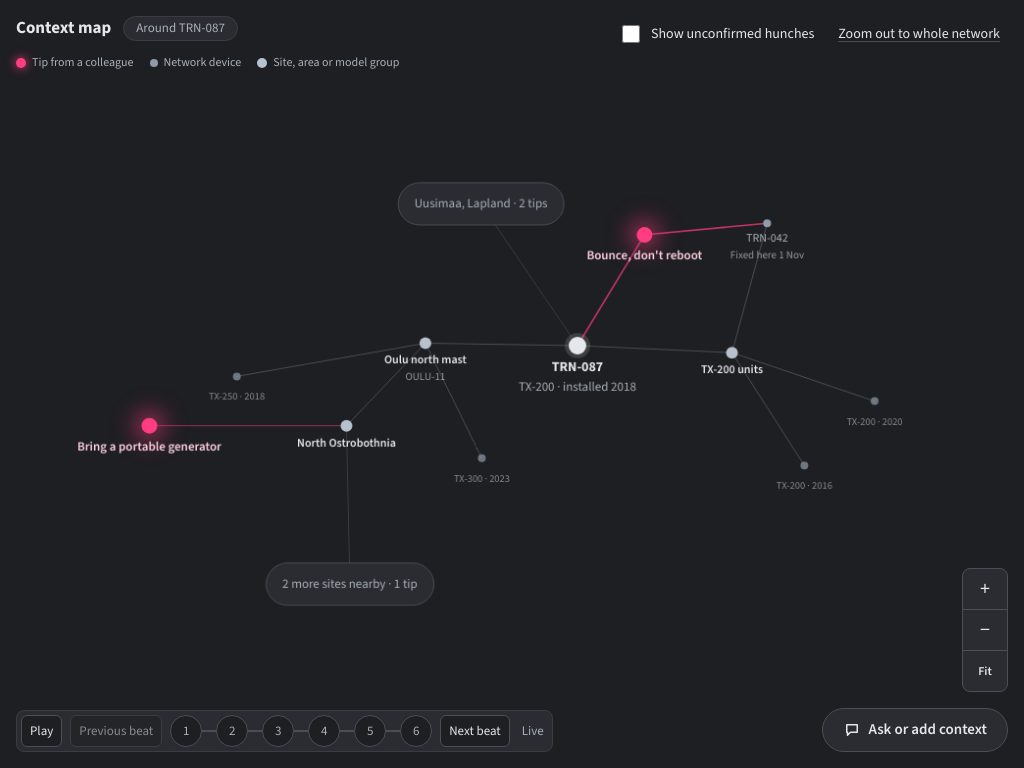
Test case: map page and chat › the hunch toggle shows CA-0005
Expected: the button "Bounce, don't reboot" is shown, [623, 213, 666, 256]
Expected: the button "Upgrade firmware to 5.0" is not shown
Click the checkbox labelled "Show unconfirmed hunches" at coordinates (631, 34), box [622, 25, 640, 43]
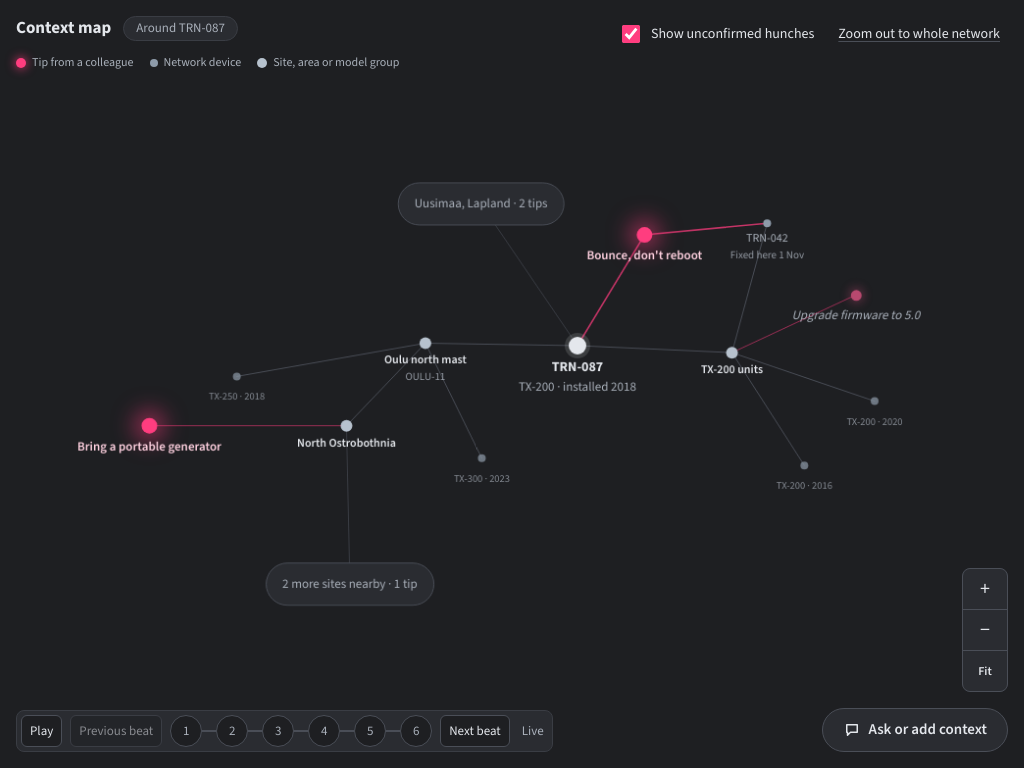
Now the button "Upgrade firmware to 5.0" is shown, box [834, 273, 877, 316]
